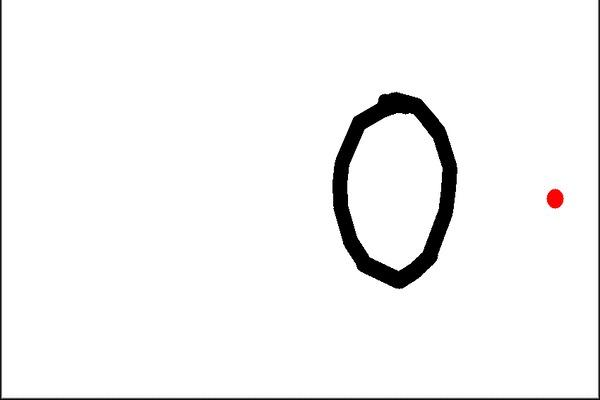O: (318, 73, 463, 289)
